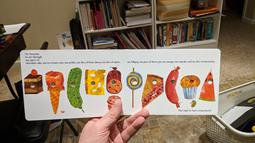text block: (21, 50, 122, 67), (124, 58, 217, 64), (176, 107, 213, 113)
